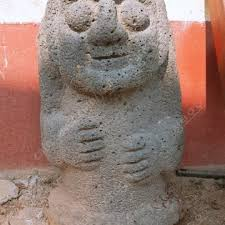Stone Statue: (30, 1, 192, 225)
